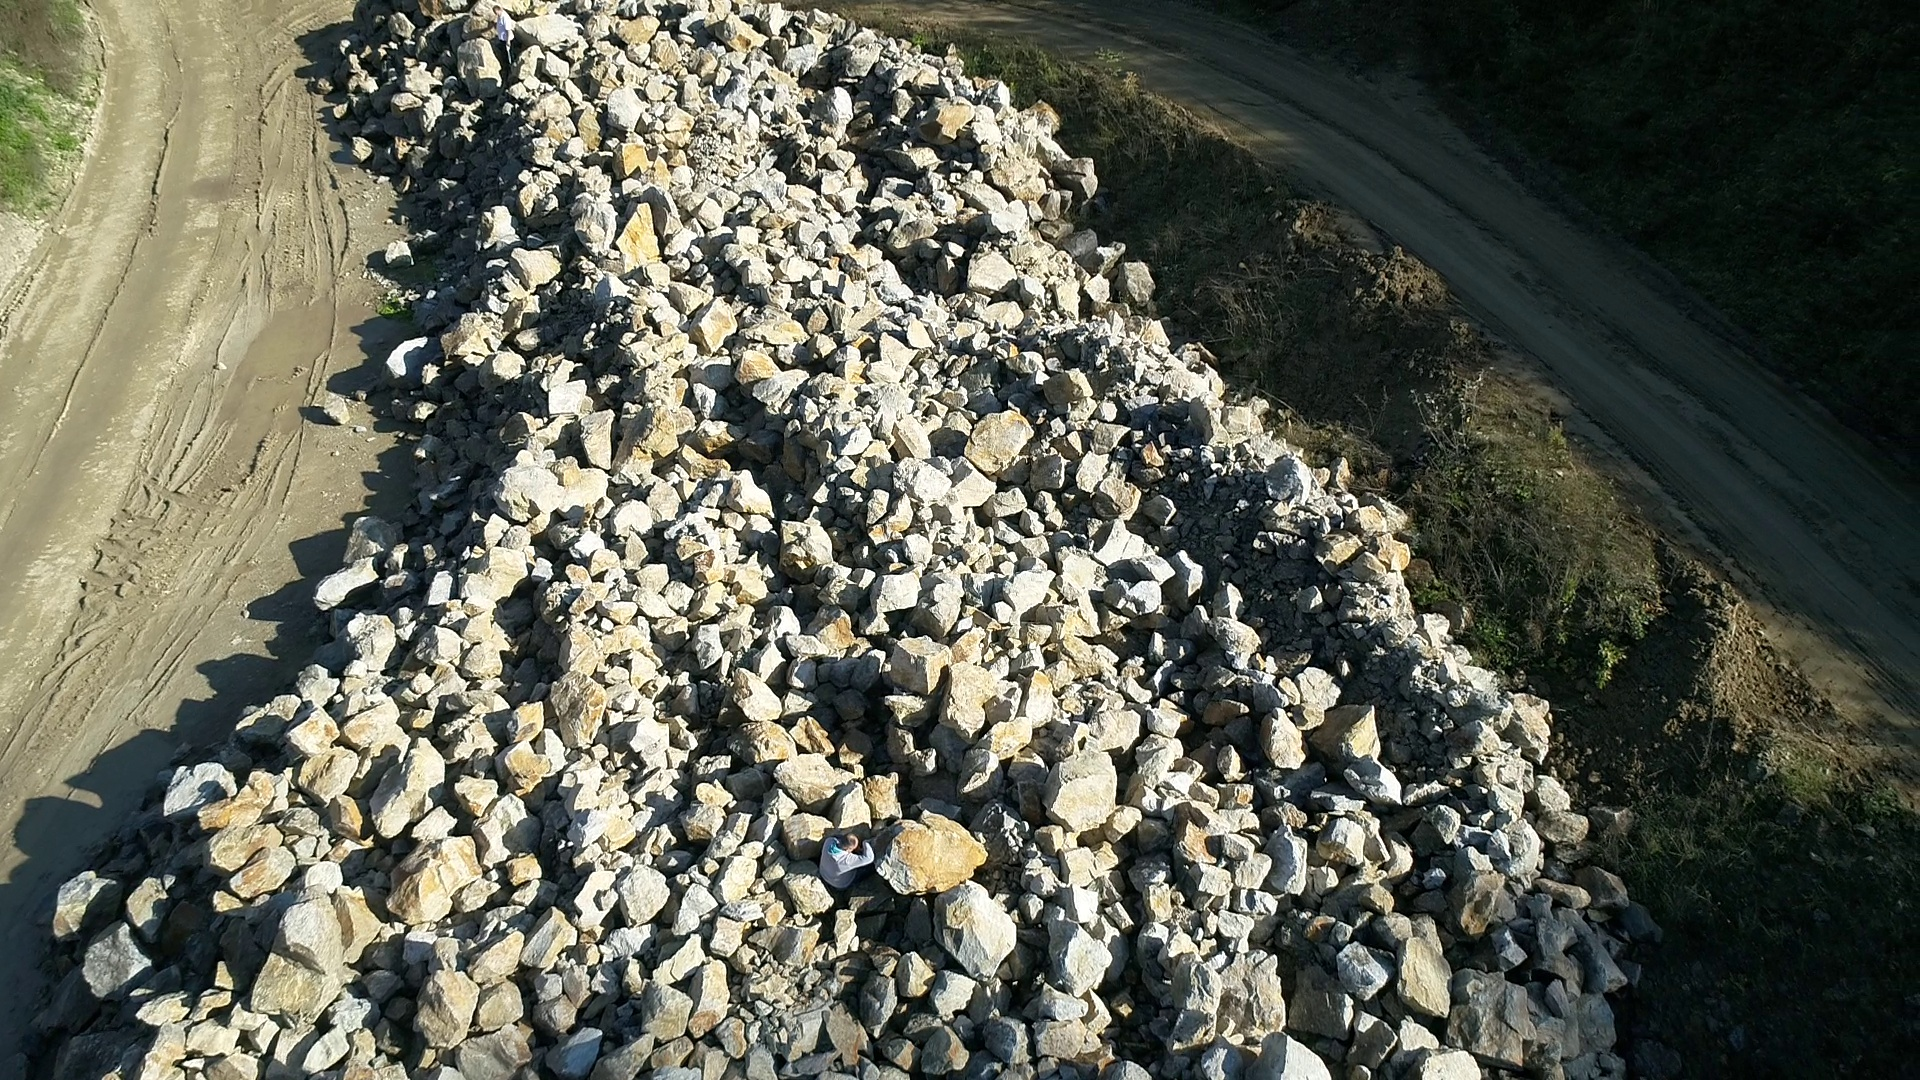person: (817, 836, 875, 894), (491, 4, 515, 68)
